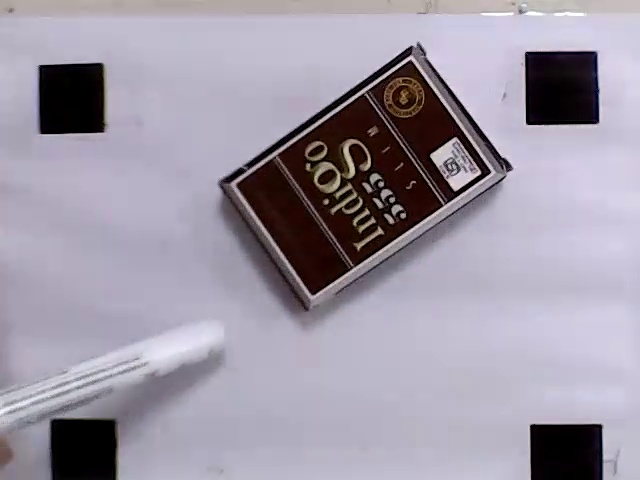BEX: (232, 58, 493, 298)
